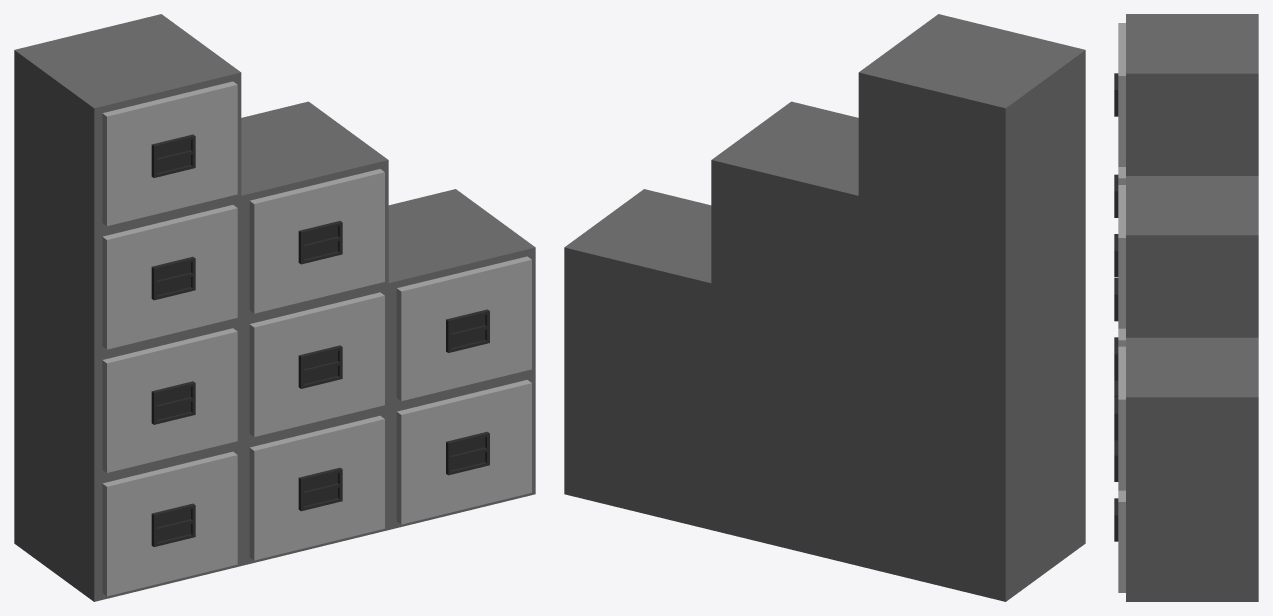
Rendered from Group_cabinet_02.FBX.
The picture shows the model from 3 angles, left to right: view 1: azimuth 30°, elevation 25°; view 2: azimuth 150°, elevation 25°; view 3: azimuth 270°, elevation 25°; orthographic projection. The views are drawn at different scales.
Parts seen in each view (by area): view 1: cabinet_01, cabinet_02, cabinet_05, cabinet_04, cabinet_03; view 2: cabinet_01, cabinet_02, cabinet_05, cabinet_04, cabinet_03; view 3: cabinet_05, cabinet_01, cabinet_03, cabinet_04, cabinet_02.
Part boxes in pixels (x1,y1,x2,y2): cabinet_01: (14,14,241,354); cabinet_02: (14,297,241,601); cabinet_05: (388,189,535,529); cabinet_04: (241,283,388,565); cabinet_03: (241,101,388,318); cabinet_01: (858,14,1085,354); cabinet_02: (858,297,1085,601); cabinet_05: (564,189,711,529); cabinet_04: (711,283,858,565); cabinet_03: (711,101,858,318); cabinet_05: (1114,337,1258,601); cabinet_01: (1114,14,1258,217); cabinet_03: (1114,176,1258,337); cabinet_04: (1114,328,1125,481); cabinet_02: (1114,278,1118,396).
Size of the model in its own units: 178 by 190 by 60.55.
1 material, 1 textured.
